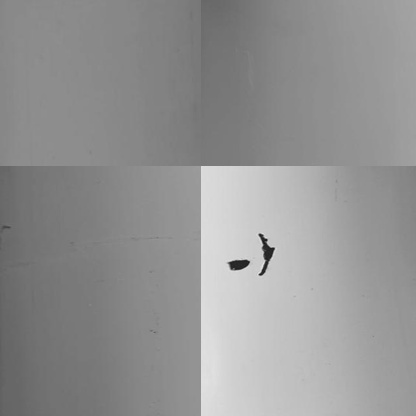kongdong: (254, 231, 283, 279), (225, 259, 251, 272)
